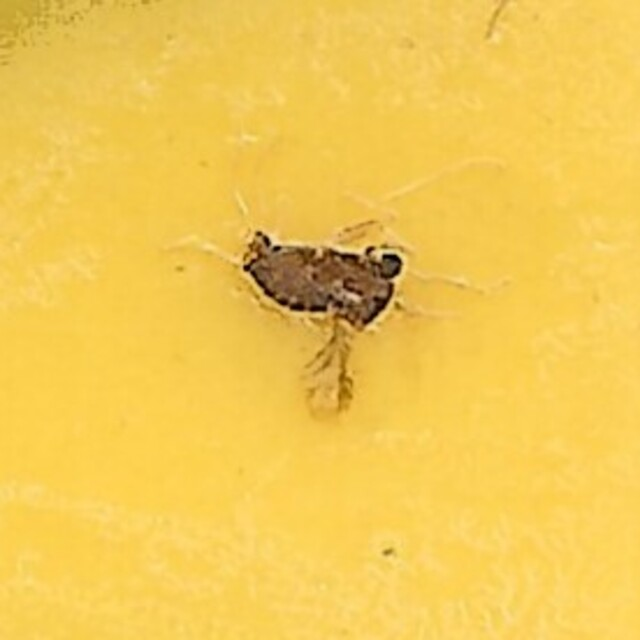Nematocera: (232, 211, 408, 429)
